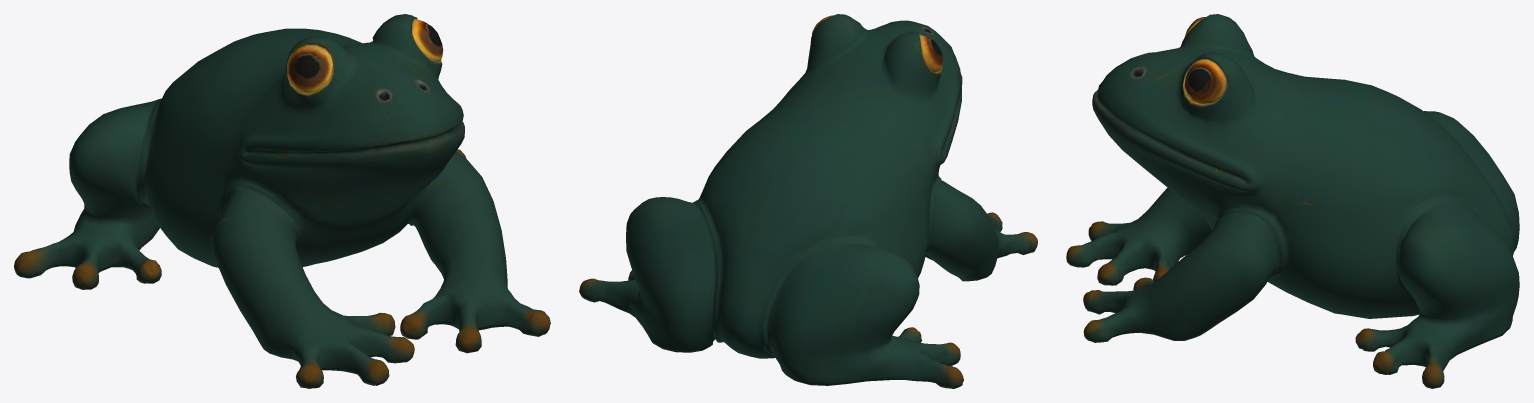
The model's file is frog.glb.
3 views of the same model, side by side, from view 1: azimuth 30°, elevation 25°; view 2: azimuth 150°, elevation 25°; view 3: azimuth 270°, elevation 25° (orthographic). The views are drawn at different scales.
Parts seen in each view (by area): view 1: midway-fit; view 2: midway-fit; view 3: midway-fit.
Boxes of the visible parts, x1=… form: midway-fit: x1=14, y1=14, x2=550, y2=388; midway-fit: x1=579, y1=14, x2=1037, y2=388; midway-fit: x1=1066, y1=14, x2=1519, y2=388.
Bounding box in the file's own units: 1 × 0.6063 × 0.9712.
Materials: 1 (1 with a texture image).
